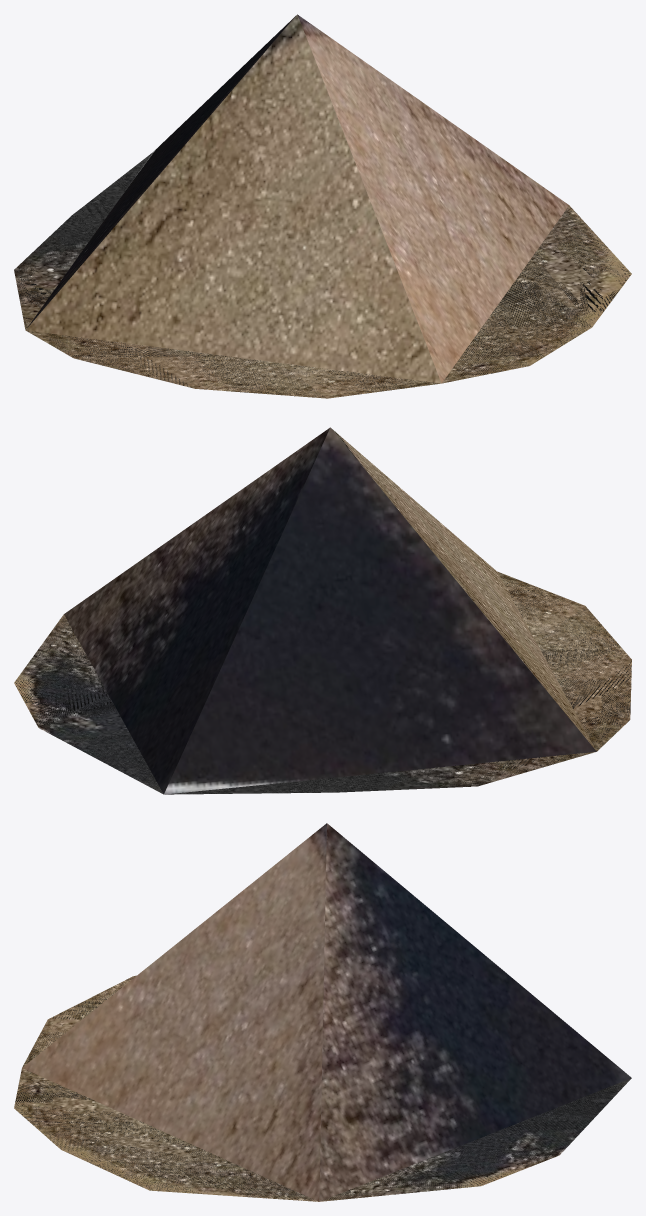
The model's file is Woodpile.dae.
3 renders of one model, top to bottom at view 1: azimuth 30°, elevation 25°; view 2: azimuth 150°, elevation 25°; view 3: azimuth 270°, elevation 25°, orthographic. The views are drawn at different scales.
Visible parts, largest first — view 1: pyr1, pol2; view 2: pyr1, pol2; view 3: pyr1, pol2.
Part boxes in pixels (x1,y1,x2,y2): pyr1: (26, 14, 568, 383); pol2: (14, 152, 631, 398); pyr1: (64, 427, 596, 794); pol2: (14, 571, 631, 794); pyr1: (22, 823, 631, 1201); pol2: (14, 975, 631, 1201).
Size of the model in its own units: 1221 by 1237 by 552.
Materials: 1 (1 with a texture image).
